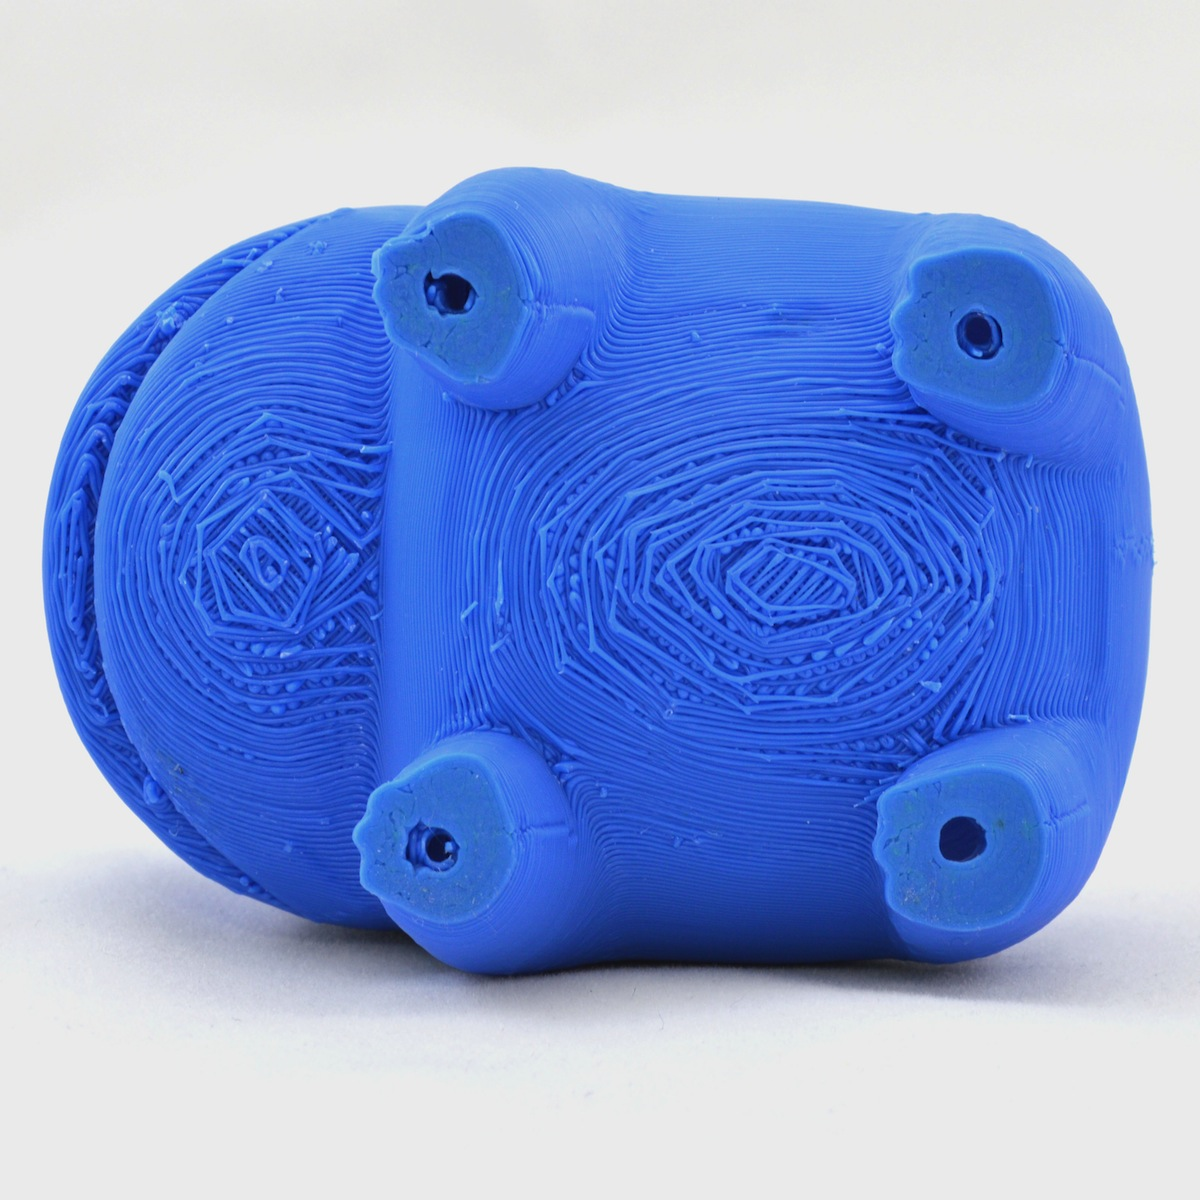3dpoverextrusion: (666, 256, 874, 410)
3dptoplayergaps: (601, 423, 958, 716), (176, 418, 368, 697)
